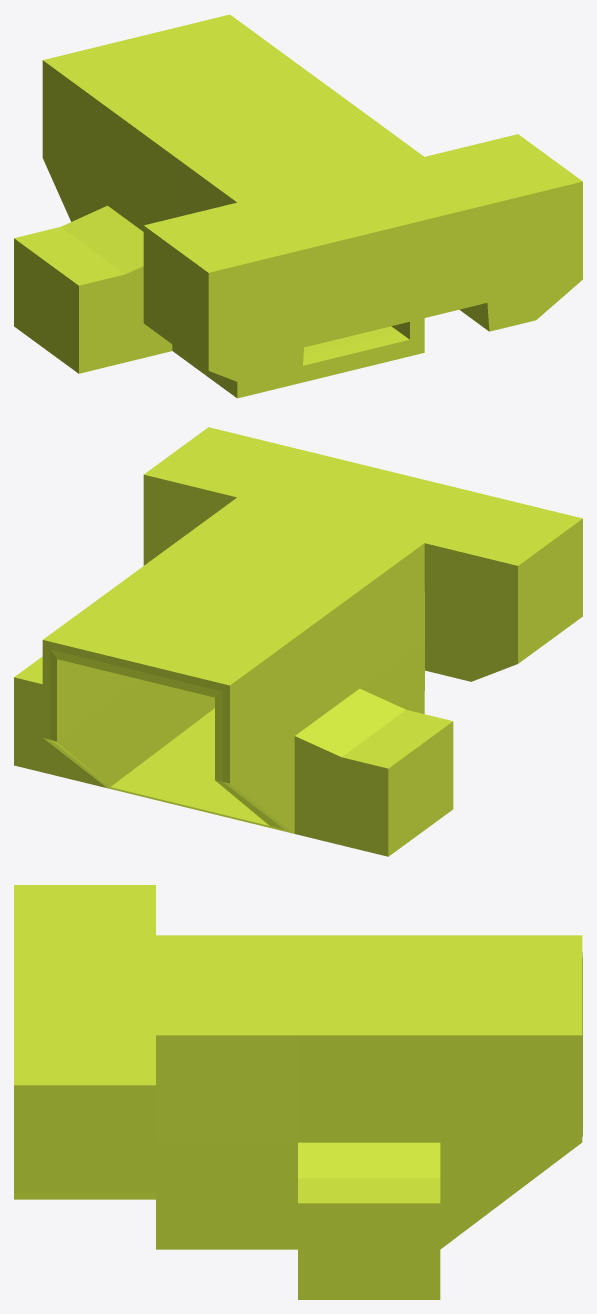
File: interceptor..glb
3 views of the same model, one above another, from view 1: azimuth 30°, elevation 25°; view 2: azimuth 150°, elevation 25°; view 3: azimuth 270°, elevation 25° (orthographic). The views are drawn at different scales.
Visible parts, largest first — view 1: 2 × 1 × 1.002; view 2: 2 × 1 × 1.002; view 3: 2 × 1 × 1.002.
Part boxes in pixels (x1,y1,x2,y2): 2 × 1 × 1.002: [14, 14, 582, 398]; 2 × 1 × 1.002: [14, 427, 582, 856]; 2 × 1 × 1.002: [14, 885, 582, 1299].
Size of the model in its own units: 4 by 2 by 4.81.
